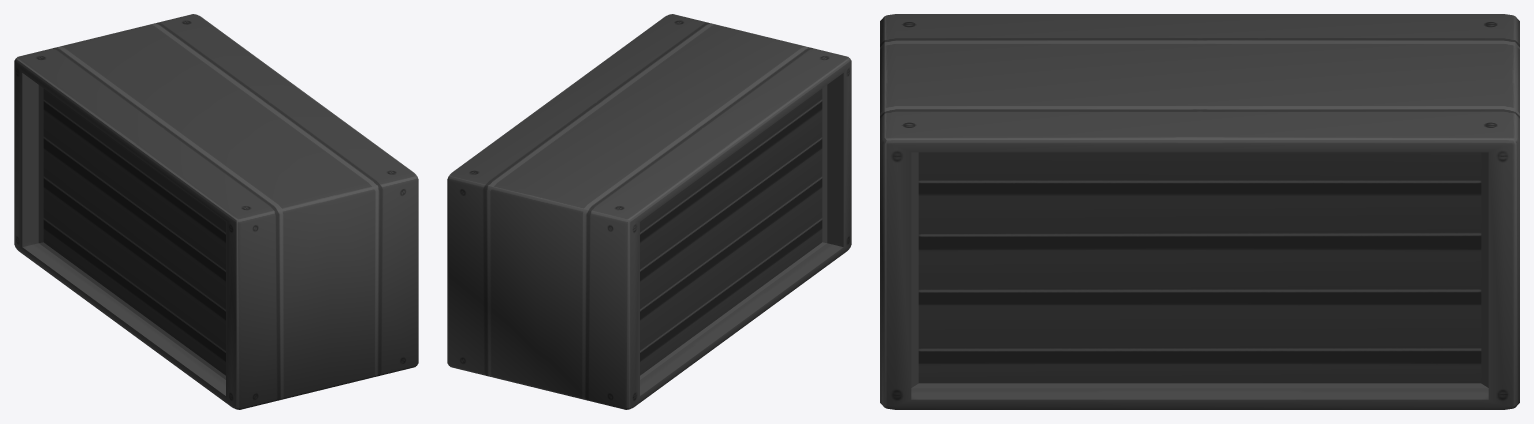
Rendered from Split.fbx.
3 views of the same model, side by side, from view 1: azimuth 30°, elevation 25°; view 2: azimuth 150°, elevation 25°; view 3: azimuth 270°, elevation 25° (orthographic). The views are drawn at different scales.
Visible parts, largest first — view 1: Cube.008; view 2: Cube.008; view 3: Cube.008.
Part boxes in pixels (<box>): Cube.008: <box>14,14,418,409</box>; Cube.008: <box>447,14,851,409</box>; Cube.008: <box>880,14,1519,409</box>.
Size of the model in its own units: 76.78 by 76.78 by 162.
